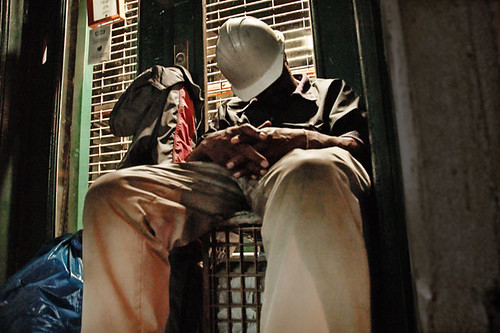person hardhat: (89, 16, 377, 331)
